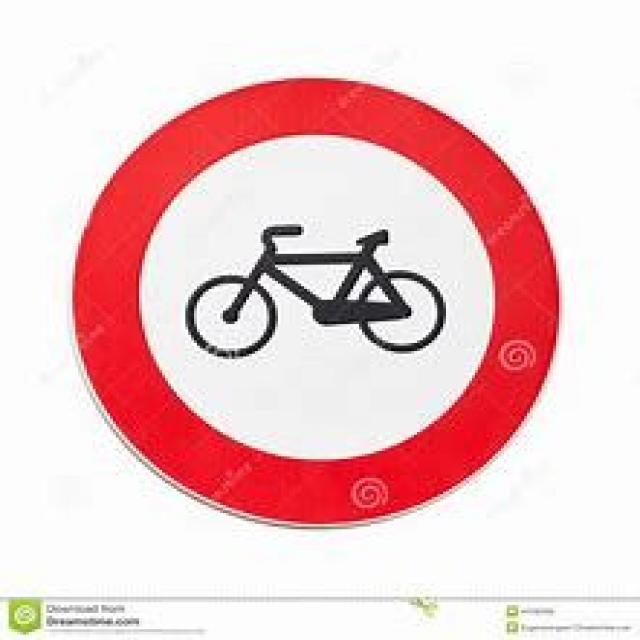CYCLE_PROHIBITED: (67, 76, 559, 526)
